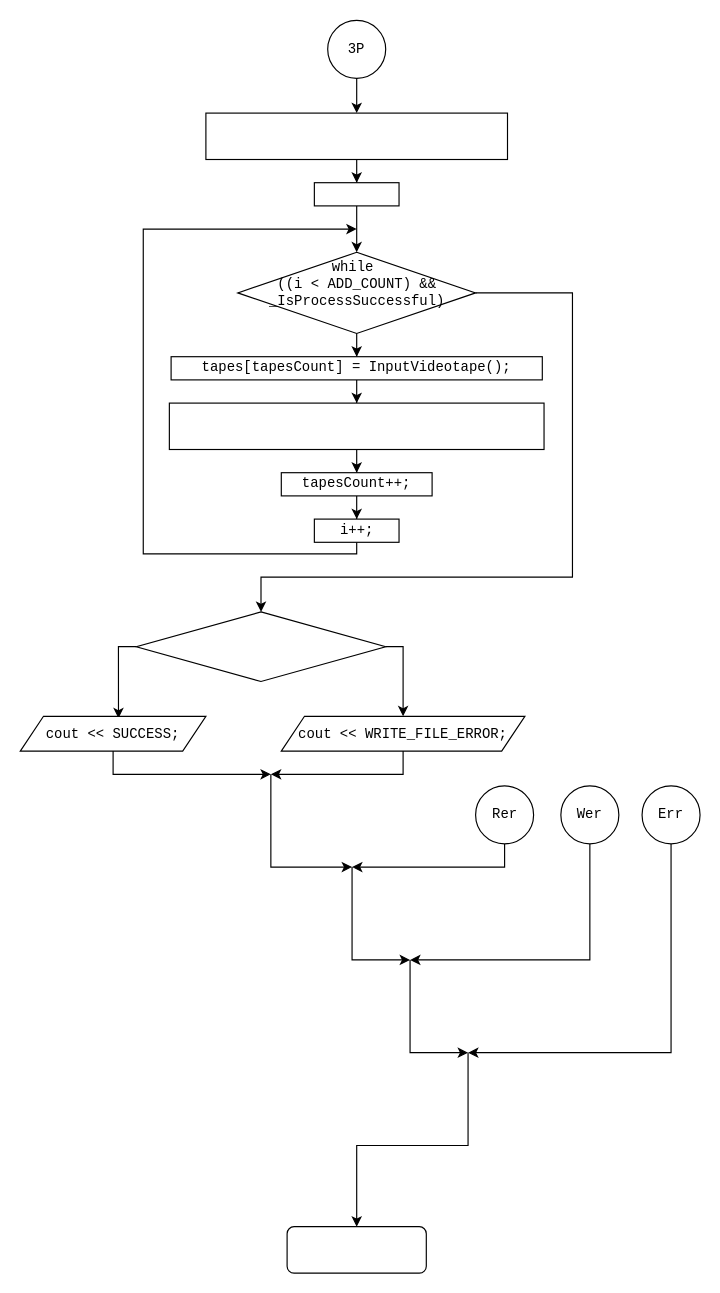
Some shapes in this 720 by 1293 pixel diagram are drawn without their labels. The shapes that lost their labels are listed below. From the top down, each one's box as (x1, y1, x2, y2) in pixels, then its label:
(205, 112, 507, 160): file = fopen("Work files\\F.dat", "ab");
(313, 182, 399, 206): i = 0;
(168, 402, 544, 449): _IsProcessSuccessful = WriteVideotape(file, &tapes[tapesCount]);
(135, 611, 386, 682): if (_IsProcessSuccessful)
(286, 1226, 426, 1273): return 0;
